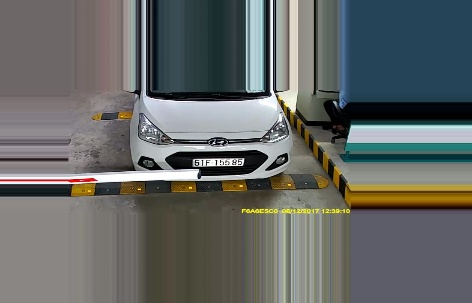plate: (190, 153, 247, 168)
